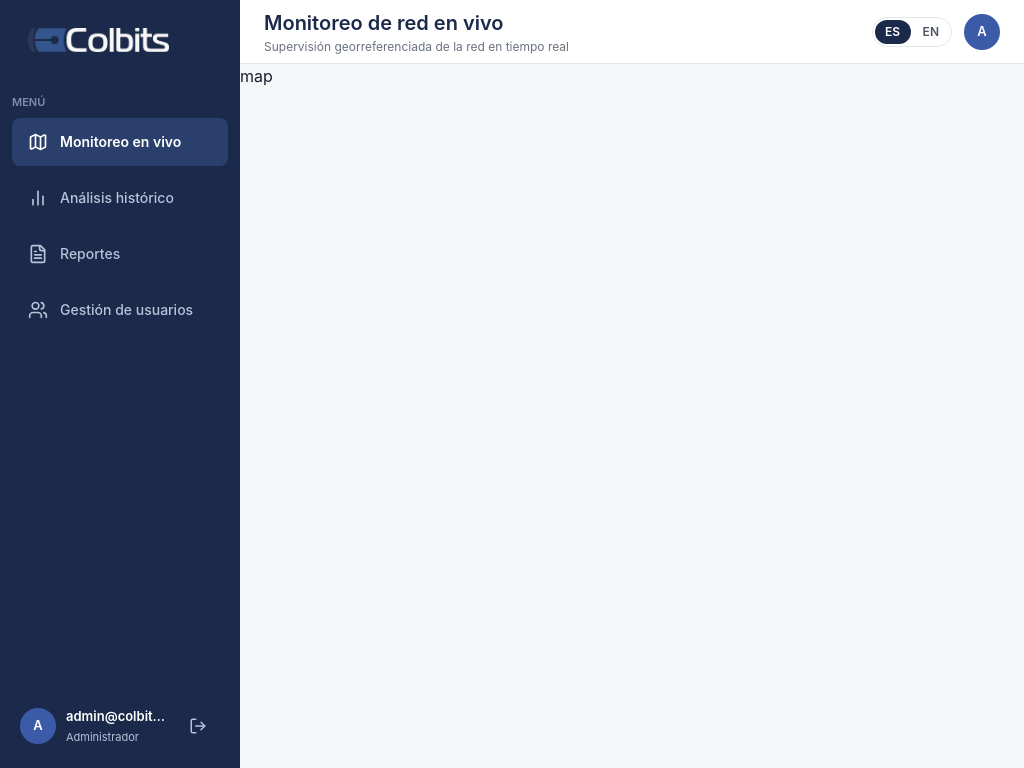
Scenario: SCRUM-158 · language switch › AC1 — inside the app, the switch in the top bar changes the menu, the titles and the user role
What coordinates should you click on to do the following:
click the button "ES EN"
I would click on:
 (912, 32)
Its box is [872,16,952,46].
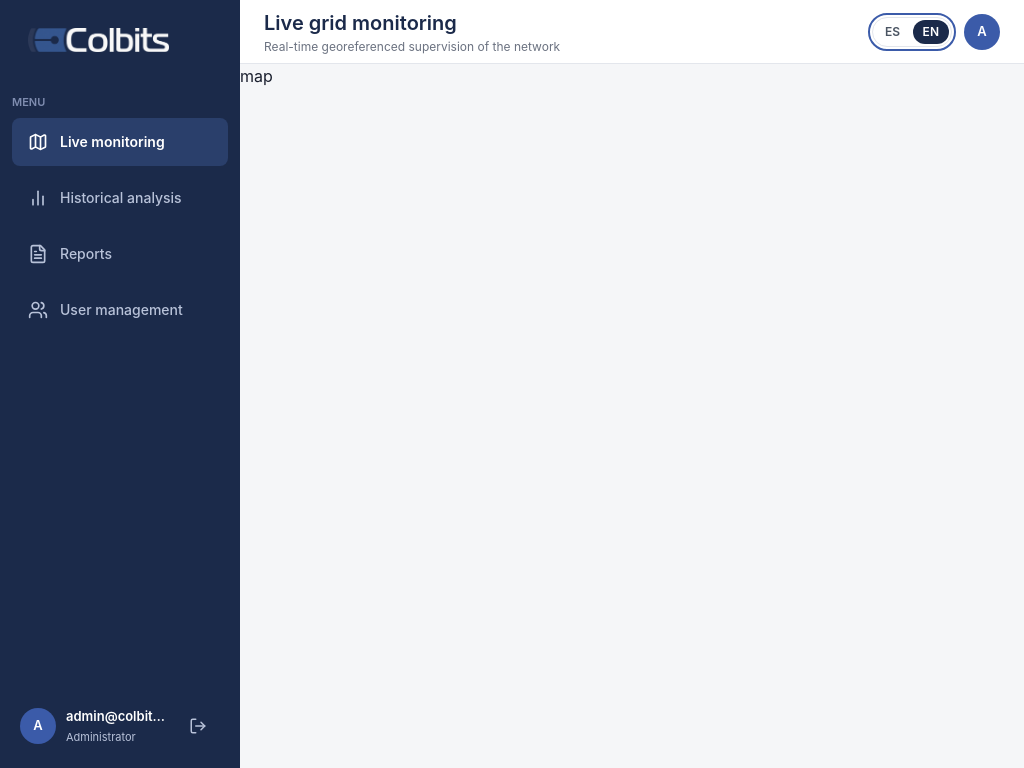
Result: the link "Live monitoring" is shown at [12,118,228,166]
Result: the heading "Live grid monitoring" is shown at [264,10,457,34]
Result: the text "Administrator" is shown at [66,730,136,744]
